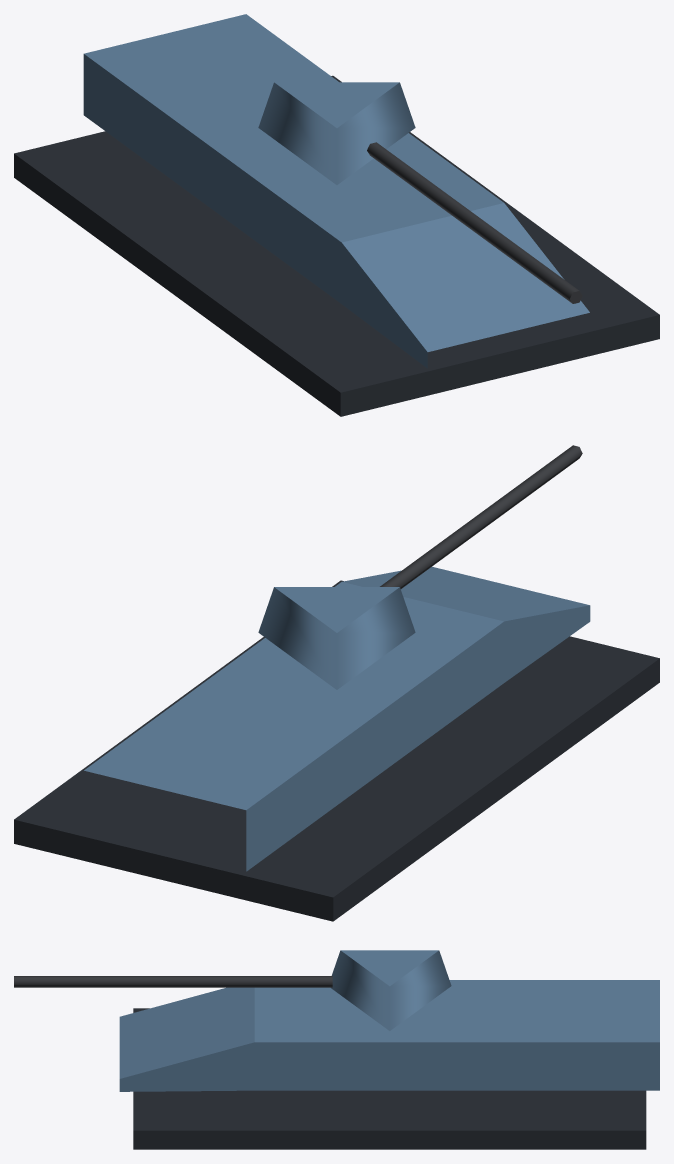
Rendered from veh_ground_tank_light_a10_lod2.glb.
3 renders of one model, top to bottom at view 1: azimuth 30°, elevation 25°; view 2: azimuth 150°, elevation 25°; view 3: azimuth 270°, elevation 25°, orthographic. The views are drawn at different scales.
Visible parts, largest first — view 1: body, turret; view 2: body, turret; view 3: body, turret.
Boxes of the visible parts, <box> form: body: <box>14,14,659,416</box>; turret: <box>258,82,582,303</box>; body: <box>14,566,659,921</box>; turret: <box>258,445,582,689</box>; body: <box>119,980,659,1149</box>; turret: <box>14,950,451,1030</box>.
Bounding box in the file's own units: 3.45 × 1.71 × 7.7.
